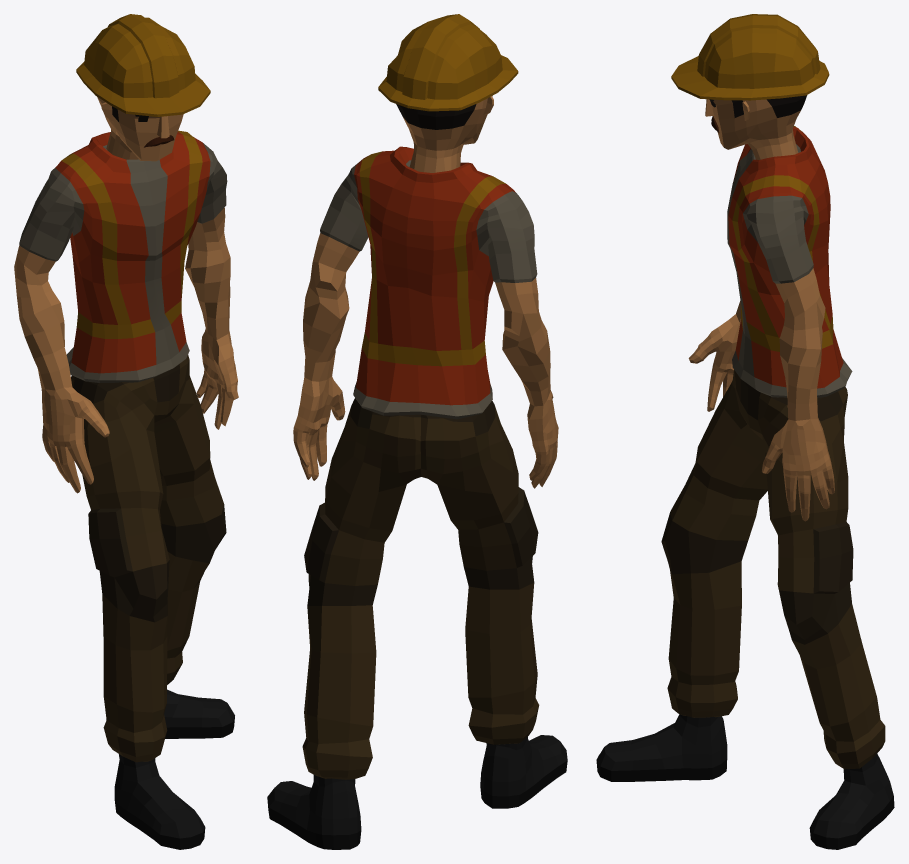
3 renders of one model, left to right at view 1: azimuth 30°, elevation 25°; view 2: azimuth 150°, elevation 25°; view 3: azimuth 270°, elevation 25°, orthographic. The views are drawn at different scales.
Parts seen in each view (by area): view 1: Worker_Body_static, Worker_Legs_static, Worker_Head_static, Worker_Feet_static; view 2: Worker_Body_static, Worker_Legs_static, Worker_Head_static, Worker_Feet_static; view 3: Worker_Legs_static, Worker_Body_static, Worker_Head_static, Worker_Feet_static.
Part boxes in pixels (left/top/right/bottom): Worker_Body_static: left=14, top=130, right=238, bottom=493; Worker_Legs_static: left=71, top=355, right=226, bottom=762; Worker_Head_static: left=76, top=14, right=210, bottom=161; Worker_Feet_static: left=106, top=689, right=234, bottom=849; Worker_Body_static: left=293, top=146, right=558, bottom=488; Worker_Legs_static: left=302, top=398, right=539, bottom=779; Worker_Head_static: left=378, top=14, right=518, bottom=172; Worker_Feet_static: left=267, top=735, right=567, bottom=849; Worker_Legs_static: left=661, top=370, right=885, bottom=769; Worker_Body_static: left=688, top=126, right=852, bottom=521; Worker_Head_static: left=671, top=14, right=829, bottom=159; Worker_Feet_static: left=596, top=714, right=894, bottom=849.
Size of the model in its own units: 0.5964 by 1.82 by 0.6382.
